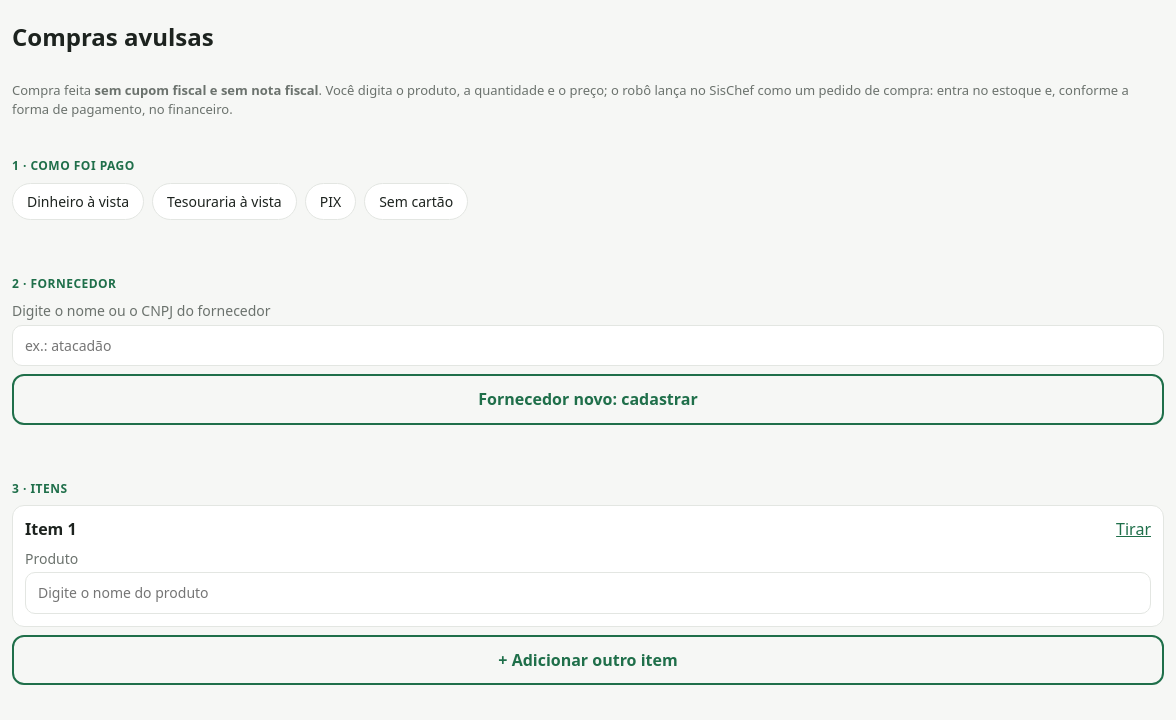
CompraAvulsa › produto novo (cadastrar pelo app, pedido do Ivan de 13/10) › a lista de produtos não carregou: avisa o erro e NÃO oferece cadastrar (não dá para saber se o produto existe)
The image size is (1176, 720).
Type "maionese" into the field with test id "busca-produto".
click(588, 593); type("maionese")  # box [25,572,1151,614]
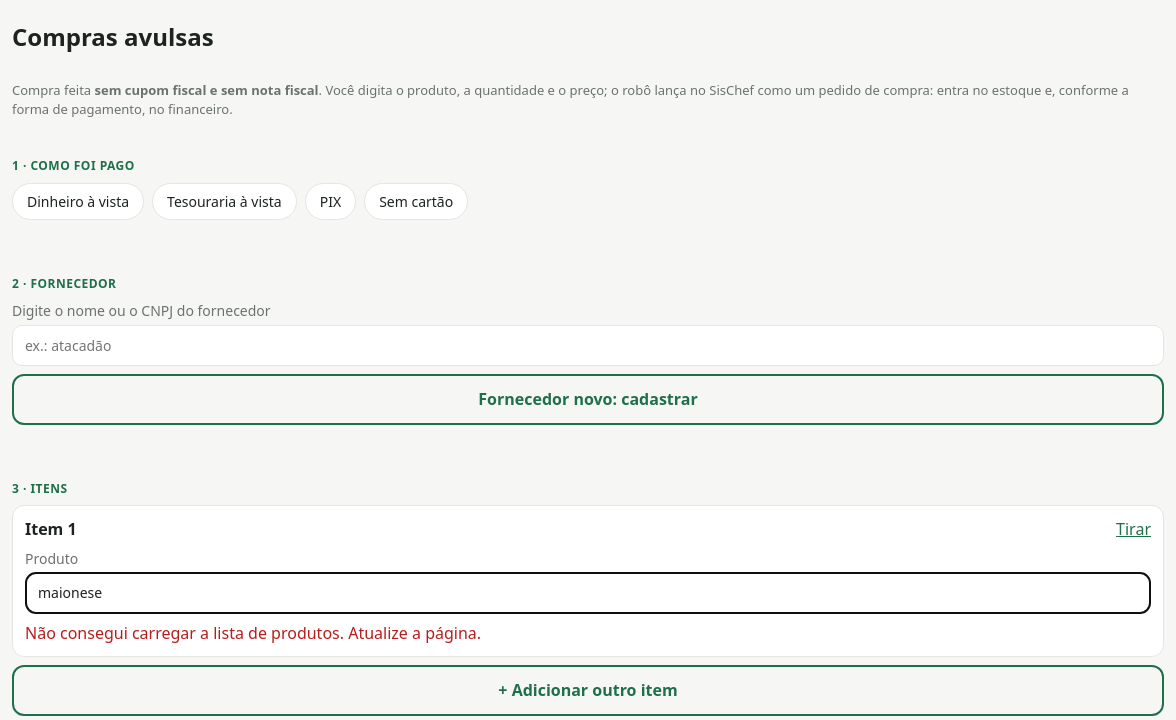
Expected: the text "Não consegui carregar a lista de produtos. Atualize a página." is shown, [25,622,481,644]
